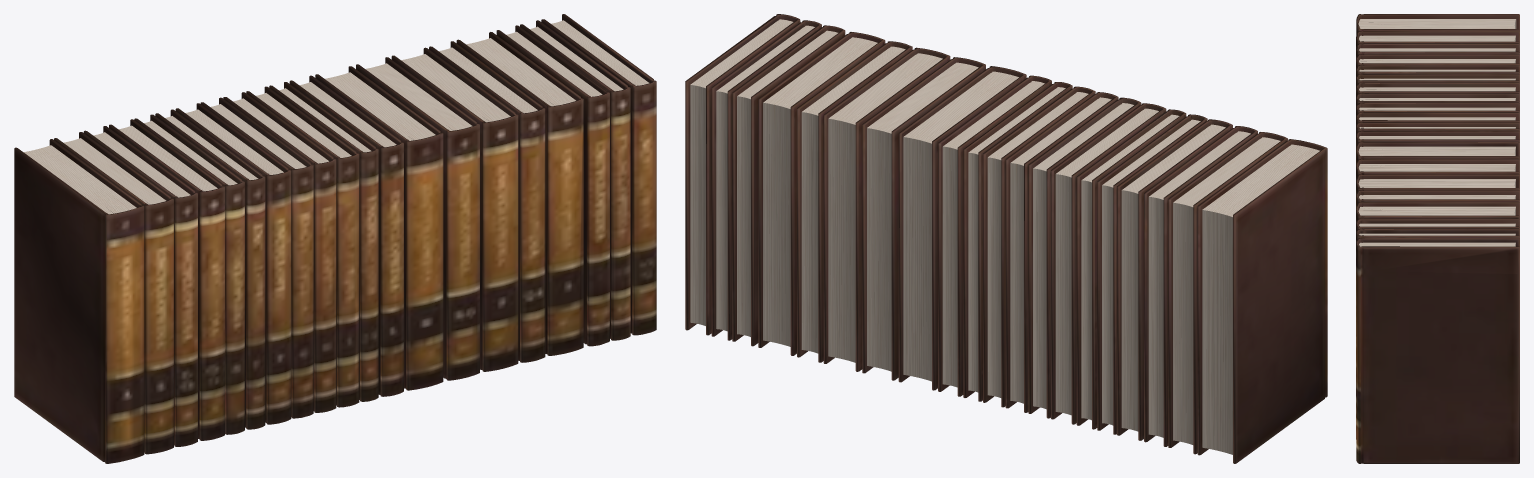
File: book_encyclopedia_set_01.glb
The picture shows the model from 3 angles, left to right: view 1: azimuth 30°, elevation 25°; view 2: azimuth 150°, elevation 25°; view 3: azimuth 270°, elevation 25°; orthographic projection. The views are drawn at different scales.
Visible parts, largest first — view 1: book_encyclopedia_set_01_book01; view 2: book_encyclopedia_set_01_book01; view 3: book_encyclopedia_set_01_book01.
Boxes of the visible parts, bbox=[...] form: book_encyclopedia_set_01_book01: bbox=[14, 14, 656, 463]; book_encyclopedia_set_01_book01: bbox=[685, 14, 1327, 463]; book_encyclopedia_set_01_book01: bbox=[1356, 14, 1519, 463].
Size of the model in its own units: 0.5513 by 0.2374 by 0.1631.
Materials: 2 (2 with a texture image).
